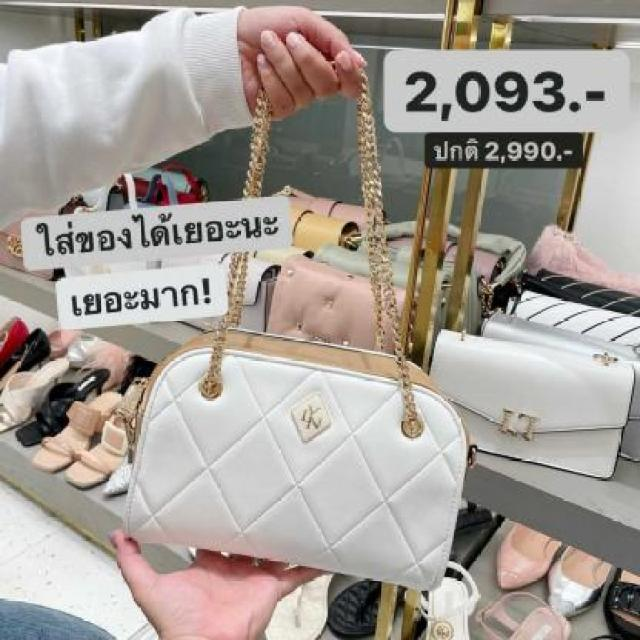Bag: (95, 312, 497, 613), (412, 321, 640, 485)
